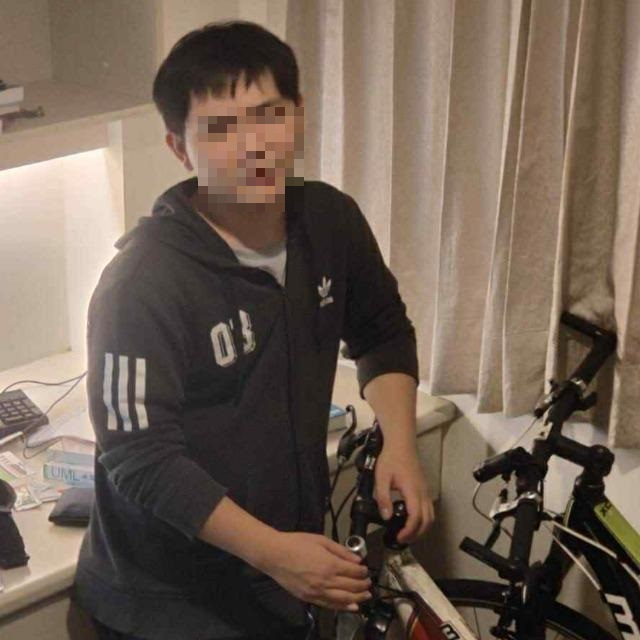NoHelmet: (149, 19, 309, 204)
NoVest: (91, 187, 378, 597)
